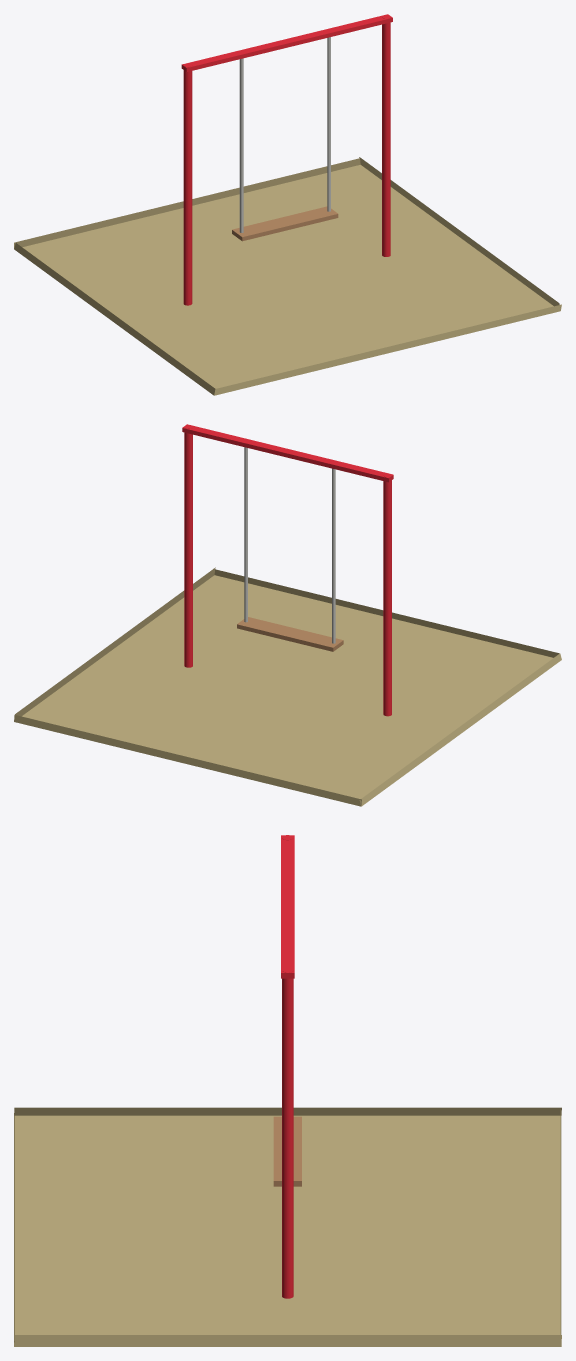
Rendered from swing.fbx.
The picture shows the model from 3 angles, top to bottom: view 1: azimuth 30°, elevation 25°; view 2: azimuth 150°, elevation 25°; view 3: azimuth 270°, elevation 25°; orthographic projection. The views are drawn at different scales.
Visible parts, largest first — view 1: Plane, Cylinder.002; view 2: Plane, Cylinder.002; view 3: Plane, Cylinder.002.
Part boxes in pixels (x1,y1,x2,y2): Plane: [14, 14, 561, 395]; Cylinder.002: [232, 37, 338, 241]; Plane: [14, 424, 561, 806]; Cylinder.002: [237, 447, 343, 651]; Plane: [14, 835, 561, 1346]; Cylinder.002: [273, 1116, 301, 1186].
Size of the model in its own units: 1518 by 997 by 1512.
